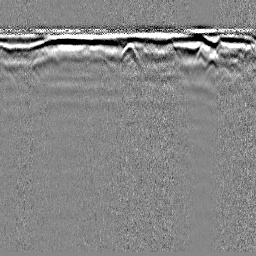cavity: (119, 40, 140, 63)
